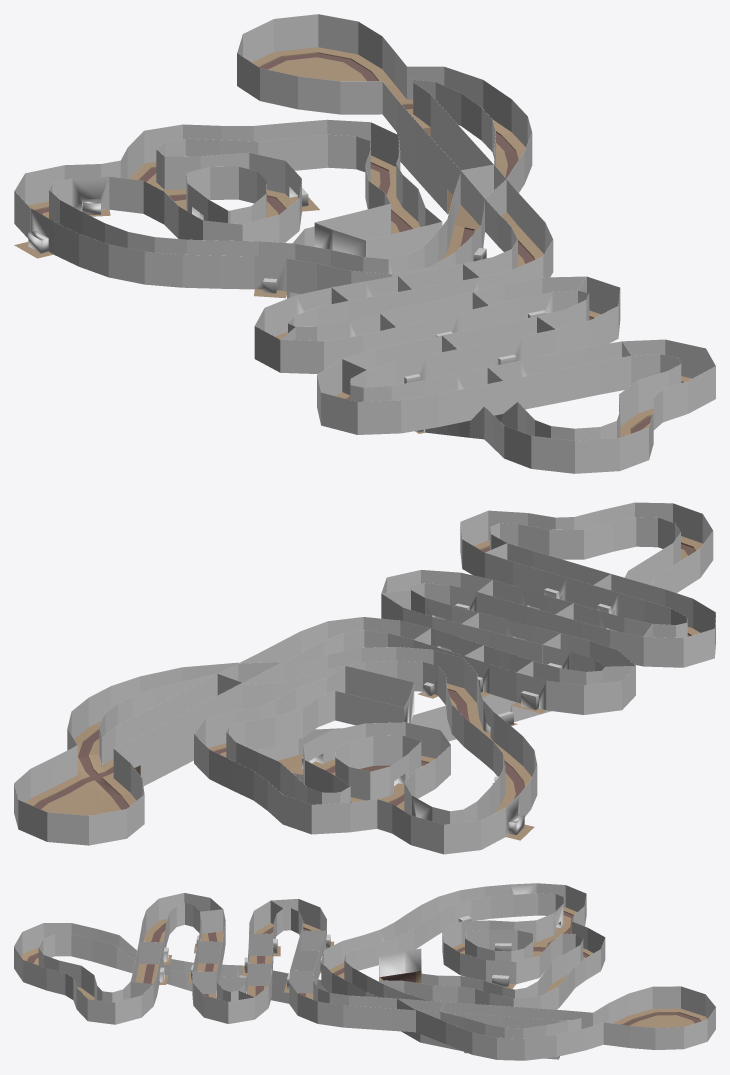
3 renders of one model, top to bottom at view 1: azimuth 30°, elevation 25°; view 2: azimuth 150°, elevation 25°; view 3: azimuth 270°, elevation 25°, orthographic. The views are drawn at different scales.
Visible parts, largest first — view 1: Plane.002, Plane, Plane.003, Plane.001, Plane.008; view 2: Plane.002, Plane, Plane.003, Plane.001; view 3: Plane.002, Plane, Plane.001, Plane.003, Plane.017, Plane.016, Plane.013, Plane.010, Plane.019, Plane.011, Plane.014, Plane.018 (+2 smaller).
Part boxes in pixels (bbox=[...]): Plane.002: bbox=[14, 14, 715, 473]; Plane: bbox=[14, 47, 691, 437]; Plane.003: bbox=[296, 275, 566, 384]; Plane.001: bbox=[28, 161, 486, 293]; Plane.008: bbox=[460, 170, 484, 225]; Plane.002: bbox=[14, 502, 715, 854]; Plane: bbox=[26, 536, 702, 840]; Plane.003: bbox=[425, 585, 624, 709]; Plane.001: bbox=[302, 648, 524, 836]; Plane.002: bbox=[14, 883, 715, 1060]; Plane: bbox=[21, 907, 707, 1058]; Plane.001: bbox=[344, 883, 563, 996]; Plane.003: bbox=[191, 915, 330, 996]; Plane.017: bbox=[249, 933, 273, 956]; Plane.016: bbox=[247, 963, 271, 986]; Plane.013: bbox=[200, 909, 223, 933]; Plane.010: bbox=[198, 941, 221, 963]; Plane.019: bbox=[290, 970, 313, 993]; Plane.011: bbox=[139, 941, 162, 964]; Plane.014: bbox=[192, 971, 216, 993]; Plane.018: bbox=[301, 930, 325, 950].
Bounding box in the file's own units: 31.56 × 5.55 × 58.23.
